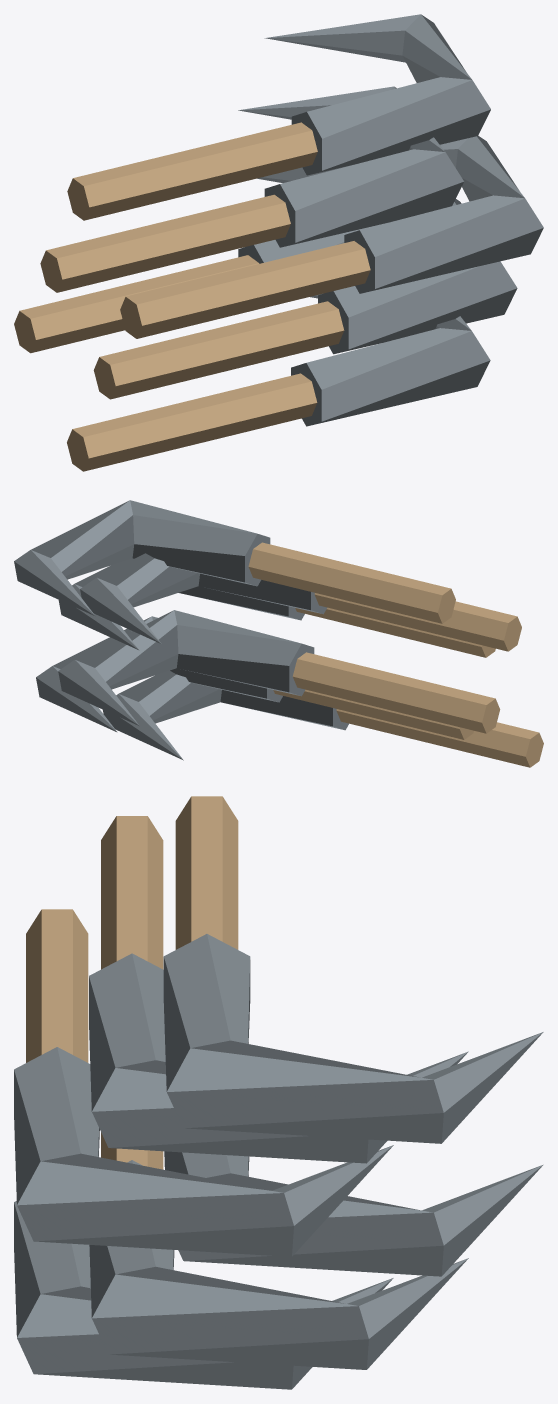
The model's file is item_106_iron_sickle_l.glb.
3 renders of one model, top to bottom at view 1: azimuth 30°, elevation 25°; view 2: azimuth 150°, elevation 25°; view 3: azimuth 270°, elevation 25°, orthographic. The views are drawn at different scales.
Parts seen in each view (by area): view 1: item_106_iron_sickle_l; view 2: item_106_iron_sickle_l; view 3: item_106_iron_sickle_l.
Boxes of the visible parts, x1,y1,x2,y2 form: item_106_iron_sickle_l: (14, 14, 543, 471); item_106_iron_sickle_l: (14, 500, 543, 767); item_106_iron_sickle_l: (14, 796, 543, 1389).
Bounding box in the file's own units: 0.6464 × 0.33 × 0.4246.
